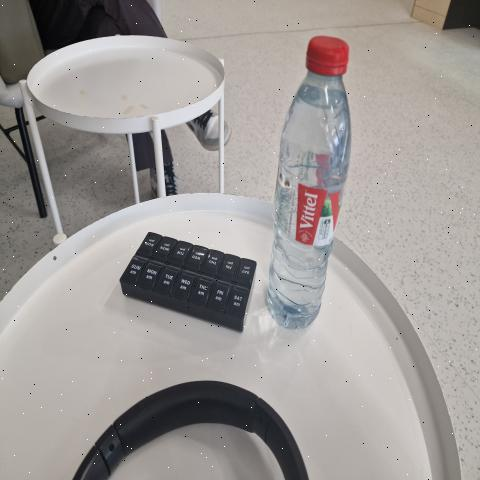PillBox: (108, 221, 266, 347)
